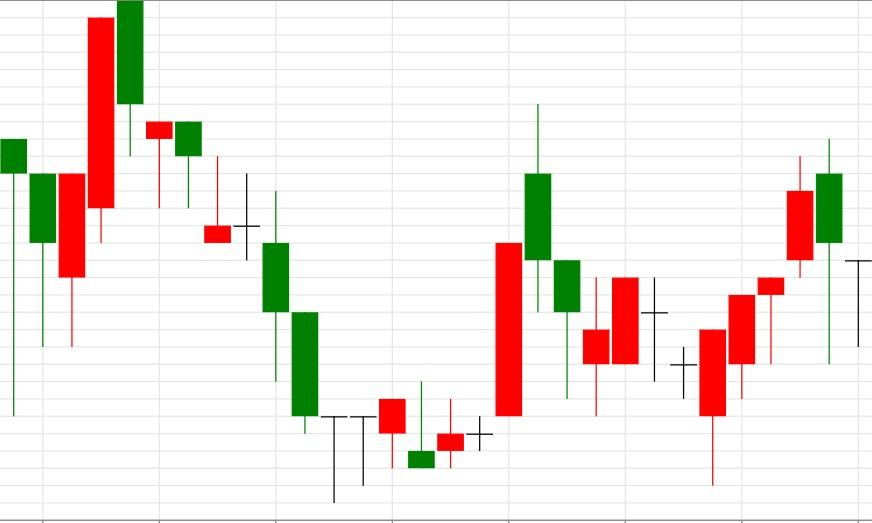inverse_hammer_rise: (117, 0, 436, 504)
